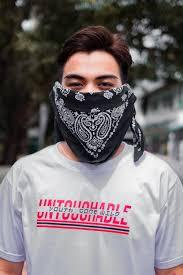scarf-kerchief: (46, 75, 155, 170)
